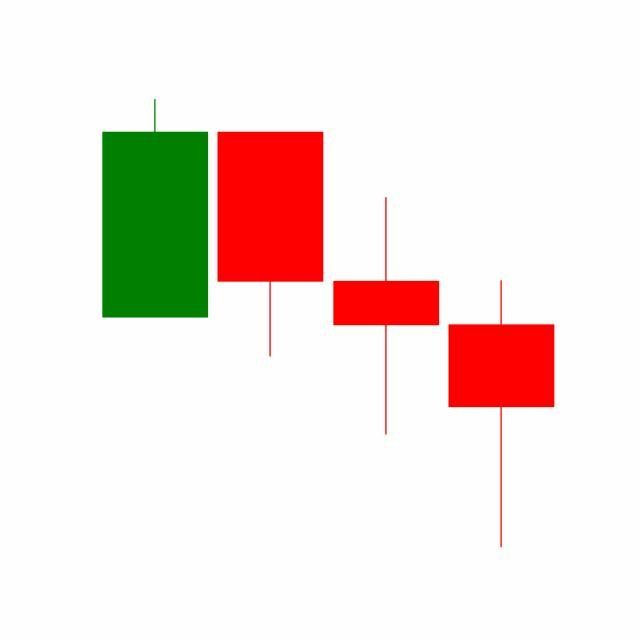Spinning Top: (329, 196, 445, 439)
